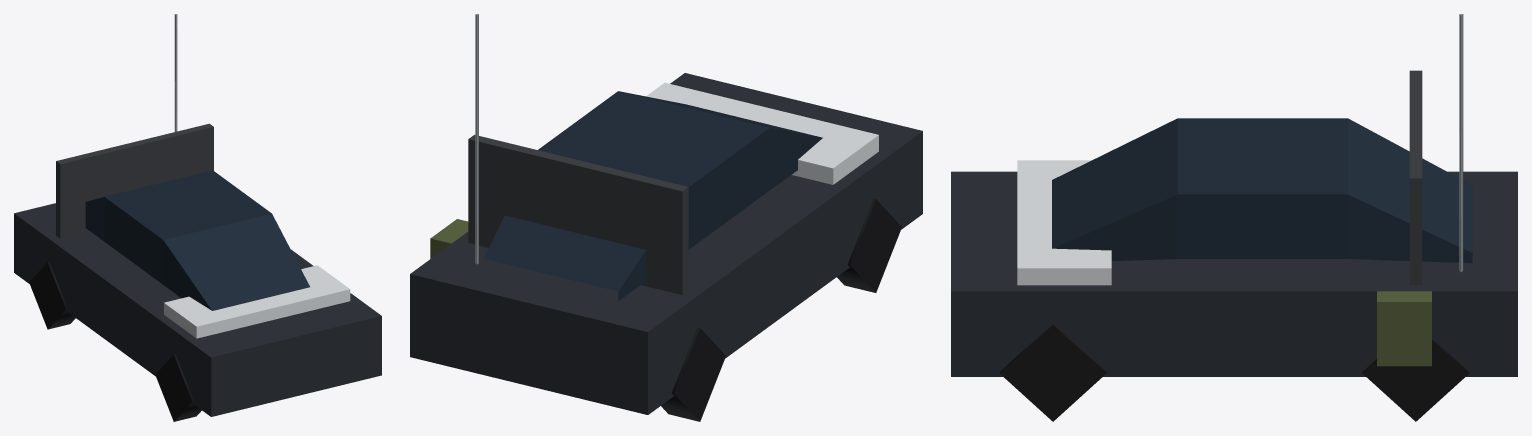
Rendered from veh_ground_jeep_a09_lod2.glb.
The picture shows the model from 3 angles, left to right: view 1: azimuth 30°, elevation 25°; view 2: azimuth 150°, elevation 25°; view 3: azimuth 270°, elevation 25°; orthographic projection. The views are drawn at different scales.
Parts seen in each view (by area): view 1: body, wheel_0, wheel_2; view 2: body, wheel_0, wheel_2; view 3: body, wheel_3, wheel_1.
Part boxes in pixels (box(x1,y1,x2,y2)): body: box(14, 14, 381, 416); wheel_0: box(29, 261, 75, 329); wheel_2: box(155, 354, 201, 421); body: box(410, 14, 922, 414); wheel_0: box(661, 327, 725, 421); wheel_2: box(837, 198, 901, 292); body: box(951, 14, 1517, 376); wheel_3: box(999, 324, 1106, 421); wheel_1: box(1362, 338, 1469, 421).
Size of the model in its own units: 1.98 by 2.71 by 3.6.
